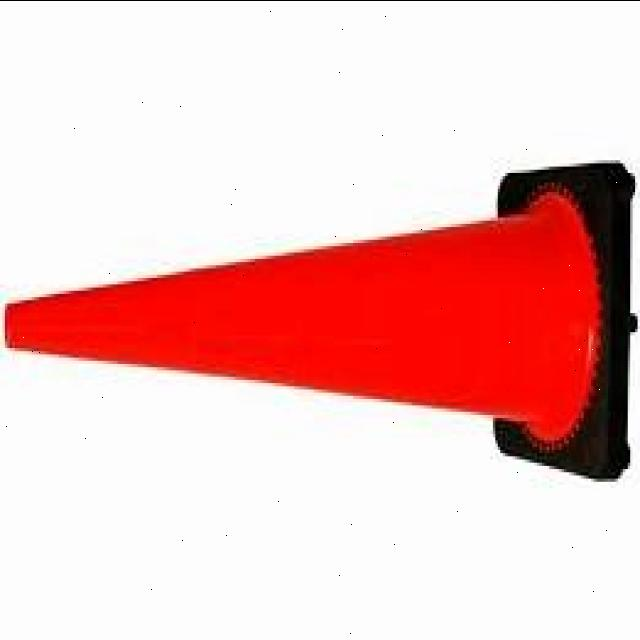traffic cone: (1, 144, 639, 508)
